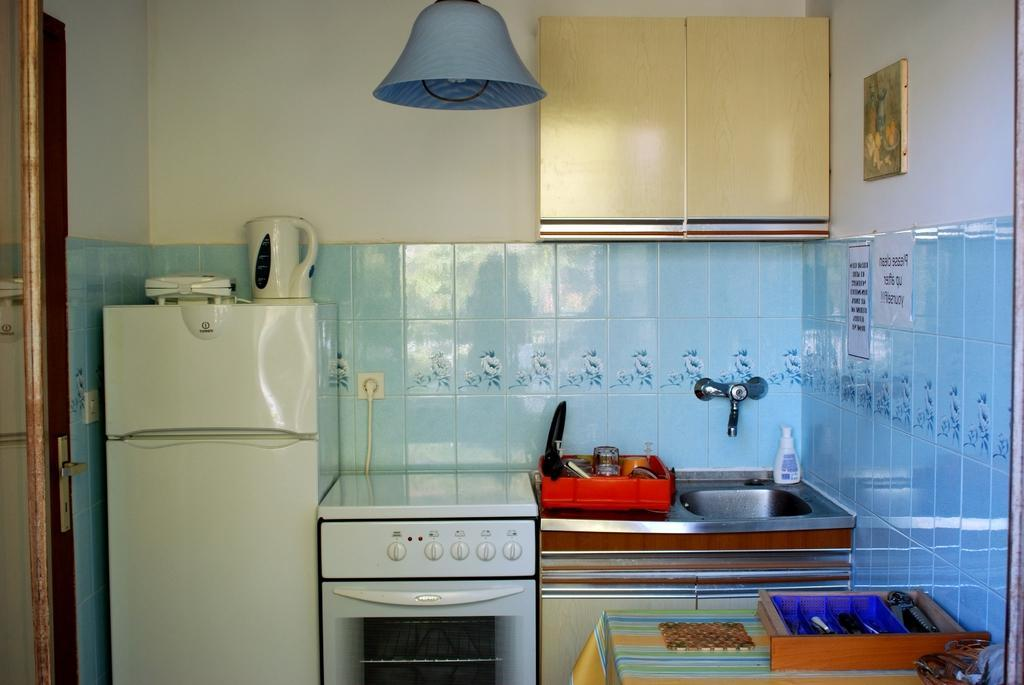door: (22, 10, 82, 680)
handle: (53, 454, 85, 483)
